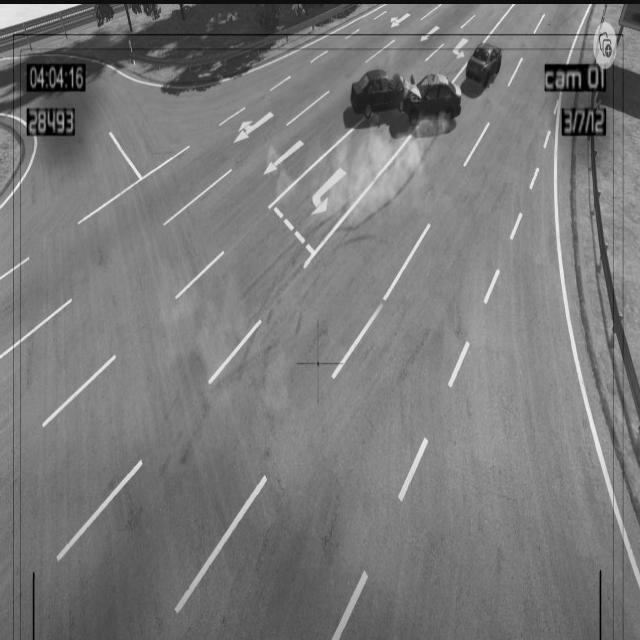accident: (349, 68, 464, 132)
vehicle: (467, 37, 503, 93)
